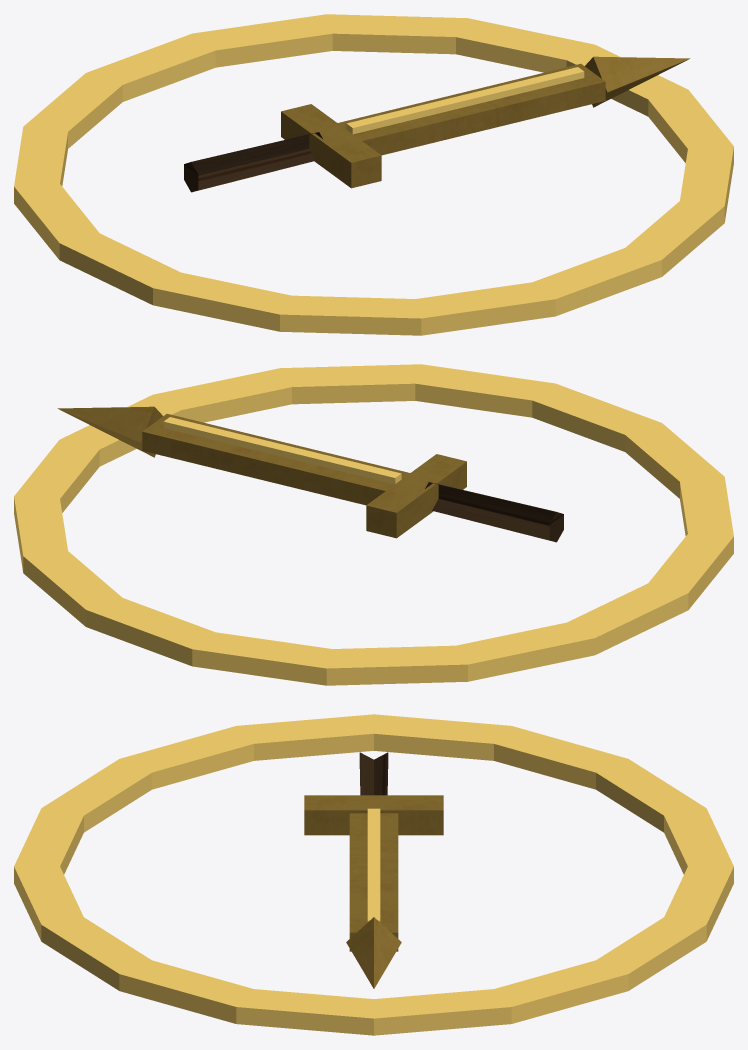
Rendered from loot_dagger_g3.glb.
3 views of the same model, one above another, from view 1: azimuth 30°, elevation 25°; view 2: azimuth 150°, elevation 25°; view 3: azimuth 270°, elevation 25° (orthographic).
Visible parts, largest first — view 1: loot_dagger_g3; view 2: loot_dagger_g3; view 3: loot_dagger_g3.
Boxes of the visible parts, x1=… form: loot_dagger_g3: x1=14, y1=14, x2=733, y2=335; loot_dagger_g3: x1=14, y1=364, x2=733, y2=685; loot_dagger_g3: x1=14, y1=714, x2=733, y2=1035.
Bounding box in the file's own units: 1.04 × 0.115 × 1.03.
3 materials, 3 textured.
